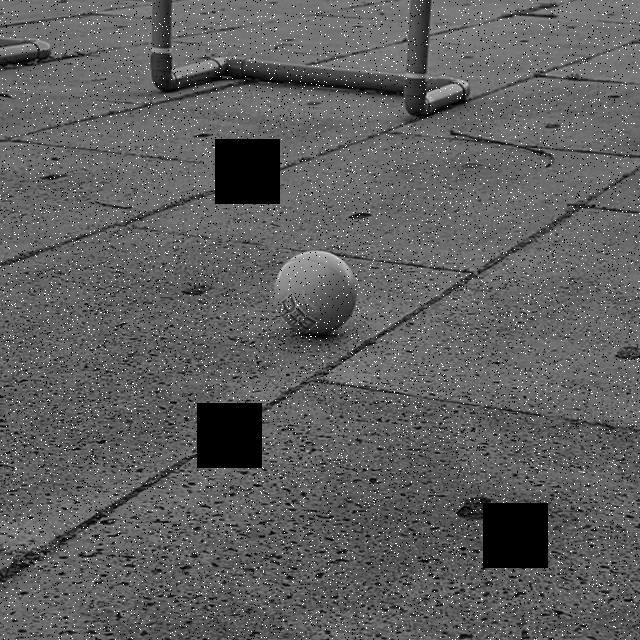ball: (270, 245, 360, 339)
